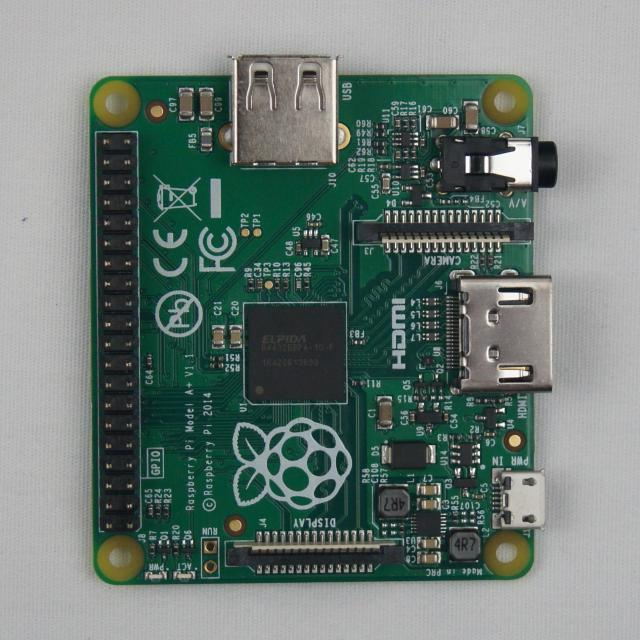Raspberry-Pi-1-A-: (92, 56, 558, 585)
